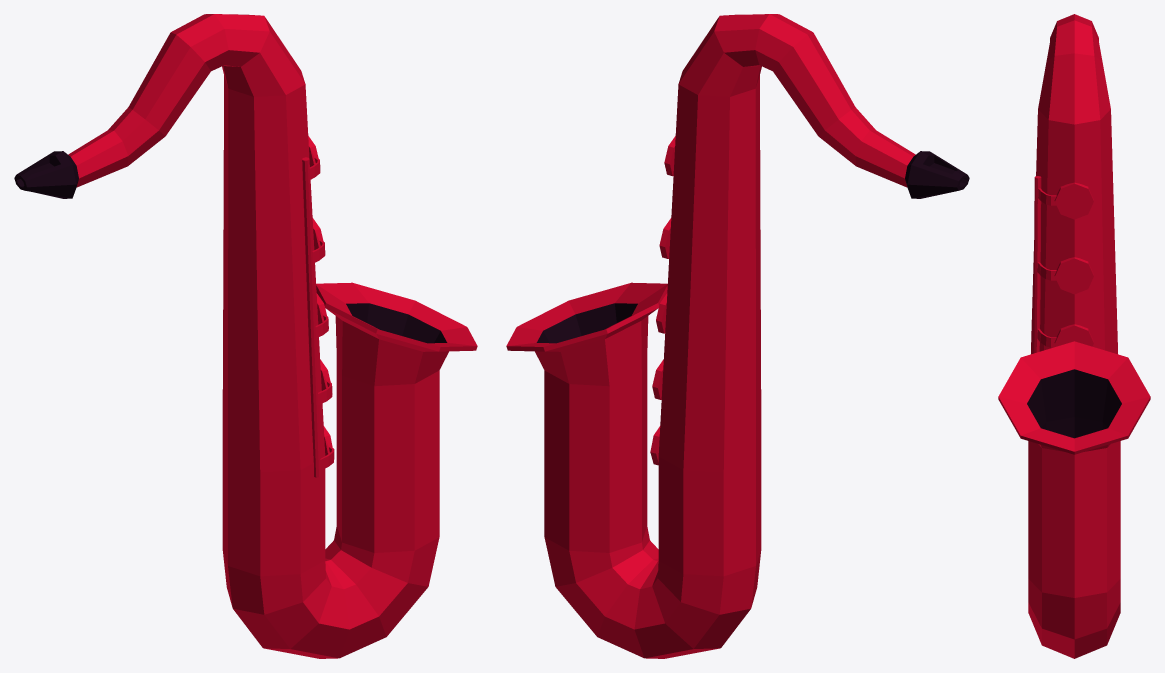
The model's file is Saxophone_01.fbx.
The picture shows the model from 3 angles, left to right: view 1: azimuth 30°, elevation 25°; view 2: azimuth 150°, elevation 25°; view 3: azimuth 270°, elevation 25°; orthographic projection. The views are drawn at different scales.
Visible parts, largest first — view 1: Saxophone_01; view 2: Saxophone_01; view 3: Saxophone_01.
Part boxes in pixels (x1,y1,x2,y2): Saxophone_01: (14,14,477,658); Saxophone_01: (506,14,969,658); Saxophone_01: (998,14,1150,658).
Size of the model in its own units: 6.64 by 9.52 by 2.26.
